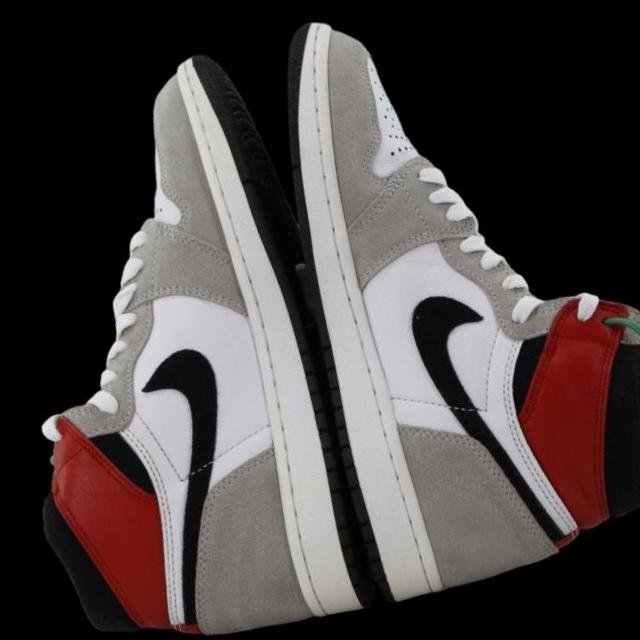nike_original_jordan: (233, 0, 640, 607), (0, 34, 382, 640)
